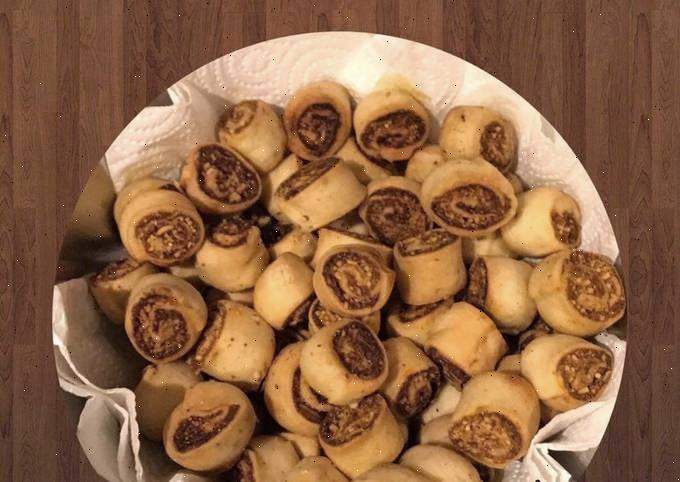bhakarwadi: (92, 87, 600, 482)
